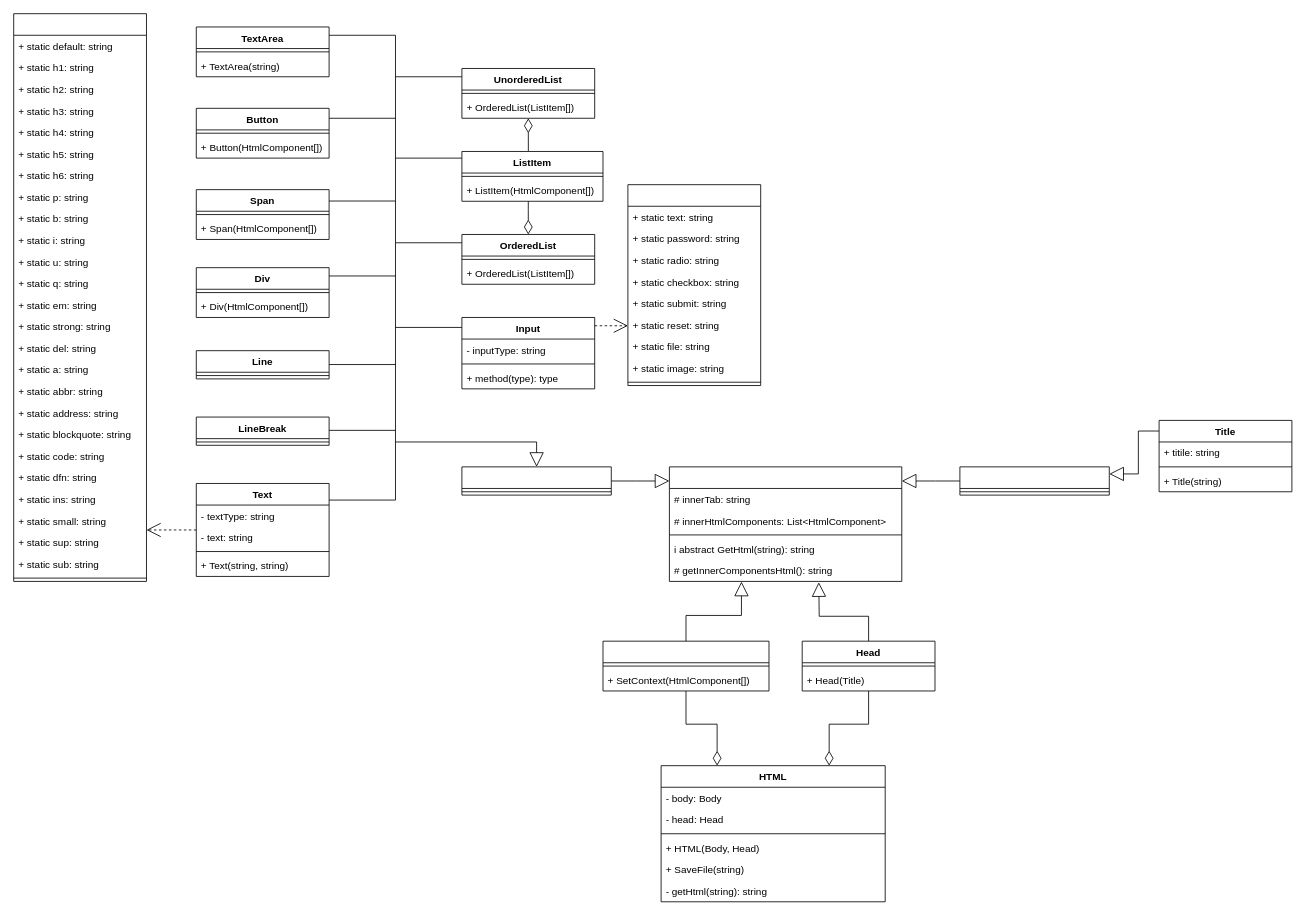
Image size: 1306x915. Some labels were removed from this diagram. Each missing label, with the box of its shape:
abstract BodyComponent: (461, 466, 611, 495)
abstract HeadComponent: (959, 466, 1109, 495)
abstract HtmlComponent: (669, 466, 902, 581)
Body: (602, 640, 769, 691)
static InputType: (627, 184, 761, 386)
static TextType: (13, 13, 146, 581)
